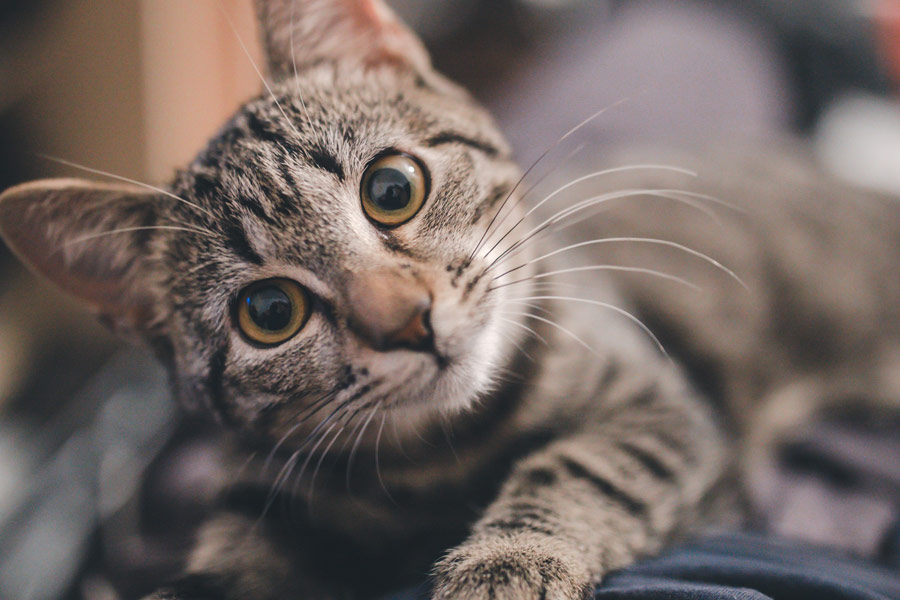Cat: (19, 16, 884, 594)
